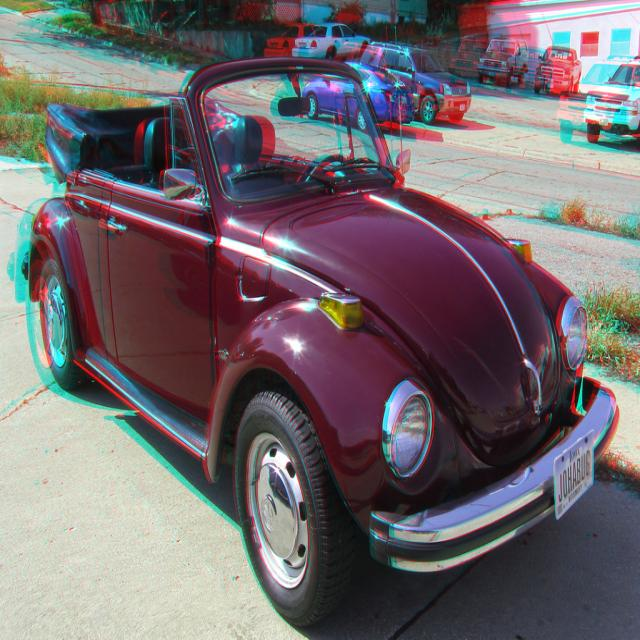car: (475, 34, 527, 85), (534, 46, 580, 97)
